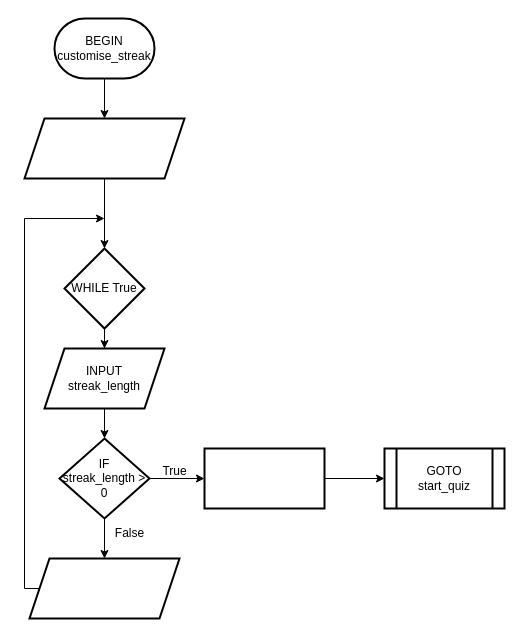
Image size: 523x636. Some labels were removed from this diagram. The shapes that lost their labels are listed below. From the top down, each one's box as (x1, y1, x2, y2) in pixels, then its label:
(23, 117, 185, 179): DISPLAY customise_streak_page
(203, 447, 325, 509): RETURN streak_length
(28, 557, 180, 619): DISPLAY "Invalid streak length"
